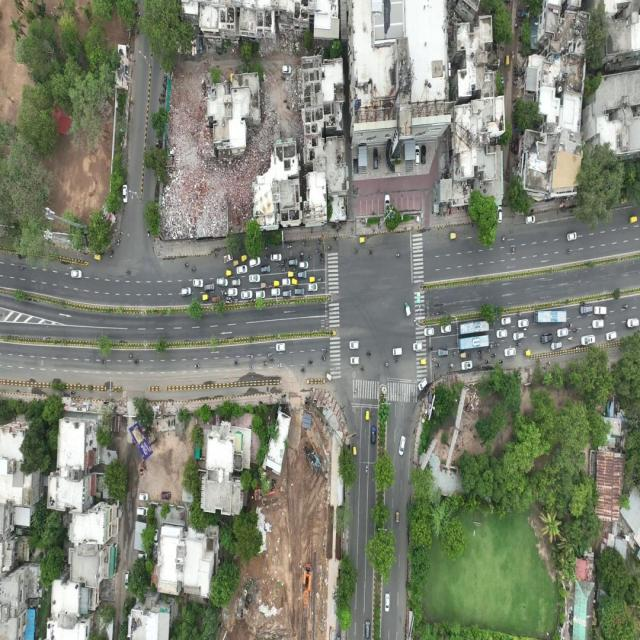3W: (404, 300, 411, 316), (629, 215, 638, 224), (523, 348, 531, 358), (364, 408, 370, 420), (352, 442, 357, 456), (93, 253, 101, 261), (449, 231, 456, 240), (259, 282, 268, 289), (325, 372, 332, 381), (358, 236, 366, 243), (419, 358, 426, 366), (226, 269, 233, 277), (233, 258, 240, 266), (287, 270, 294, 278), (309, 275, 316, 283), (396, 511, 400, 524), (202, 293, 209, 300), (291, 278, 298, 285), (460, 352, 467, 359), (241, 254, 247, 262), (273, 280, 280, 286)
Bus: (532, 308, 567, 324), (458, 319, 490, 336), (458, 335, 490, 350)
Cars: (580, 334, 596, 347), (398, 434, 406, 456), (418, 376, 428, 392), (248, 255, 260, 268), (540, 332, 553, 344), (503, 347, 516, 357), (594, 305, 607, 315), (626, 318, 639, 328), (579, 305, 593, 314), (122, 183, 128, 203), (216, 277, 228, 287), (240, 290, 252, 300), (495, 329, 507, 339), (556, 328, 568, 338), (591, 319, 604, 328), (384, 593, 390, 612), (204, 282, 215, 292), (440, 324, 451, 334), (461, 360, 472, 370), (605, 330, 616, 340), (70, 269, 82, 278), (192, 278, 204, 287), (236, 265, 248, 274), (437, 348, 449, 357), (365, 620, 371, 638), (512, 332, 524, 341), (550, 341, 562, 350), (566, 232, 578, 241), (181, 286, 191, 296), (261, 264, 271, 274), (501, 316, 511, 326), (227, 287, 238, 296), (412, 342, 423, 351), (517, 319, 528, 328), (248, 274, 260, 282), (269, 288, 281, 296), (255, 290, 265, 299), (392, 347, 402, 356), (525, 215, 535, 224), (498, 205, 503, 223), (230, 278, 241, 286), (298, 261, 309, 269), (307, 283, 318, 291), (371, 426, 376, 443), (350, 356, 359, 365), (288, 258, 298, 266), (276, 343, 286, 351), (349, 341, 359, 349), (424, 328, 434, 336), (297, 271, 307, 278), (271, 253, 281, 260), (282, 290, 292, 297), (294, 288, 305, 294), (282, 278, 290, 286)
LCV: (223, 252, 233, 264)
M2W: (393, 356, 400, 365), (276, 361, 283, 369), (18, 264, 26, 270), (622, 304, 630, 310), (193, 363, 200, 369), (466, 352, 473, 358), (567, 336, 574, 342), (320, 258, 326, 265), (125, 269, 131, 276), (565, 249, 572, 255), (365, 463, 369, 473), (233, 360, 239, 366), (247, 365, 253, 371), (448, 362, 454, 368), (566, 322, 572, 328), (395, 252, 401, 258), (327, 245, 333, 251), (307, 254, 313, 260), (281, 267, 287, 273), (183, 262, 189, 268), (134, 359, 140, 365), (511, 247, 517, 253), (413, 319, 418, 326), (572, 328, 579, 333), (483, 359, 490, 364), (316, 240, 323, 245), (249, 354, 254, 360), (263, 361, 268, 367), (265, 353, 271, 358), (269, 357, 274, 363), (307, 360, 313, 365), (323, 348, 329, 353), (366, 351, 371, 357), (360, 366, 365, 372), (434, 363, 440, 368), (430, 357, 436, 362), (451, 350, 456, 356), (490, 353, 496, 358), (498, 359, 504, 364), (515, 342, 521, 347), (315, 248, 321, 253), (282, 258, 288, 263), (501, 236, 506, 242), (602, 314, 608, 319), (147, 228, 150, 237), (368, 250, 373, 255), (353, 249, 358, 254), (318, 277, 323, 282), (299, 256, 304, 261), (128, 353, 133, 358), (300, 368, 306, 372), (383, 362, 389, 366), (427, 347, 433, 351), (478, 356, 484, 360), (333, 237, 339, 241), (319, 253, 325, 257), (299, 251, 305, 255), (264, 256, 270, 260), (191, 268, 197, 272), (226, 296, 232, 300), (580, 301, 586, 305), (321, 357, 326, 361), (494, 343, 499, 347), (478, 350, 483, 354), (287, 244, 291, 249), (302, 240, 307, 244), (294, 267, 298, 272), (275, 262, 280, 266), (222, 292, 227, 296), (101, 360, 106, 364), (224, 300, 229, 304), (268, 284, 272, 288), (251, 298, 255, 302)
